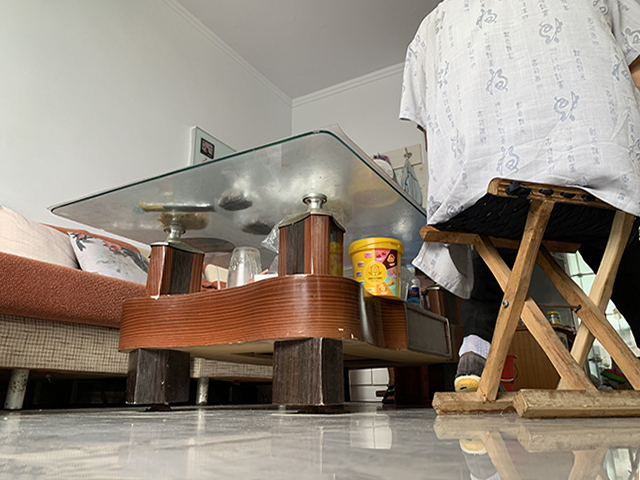sofa: (1, 203, 151, 411)
stool: (418, 177, 640, 422)
table: (46, 123, 467, 416)
